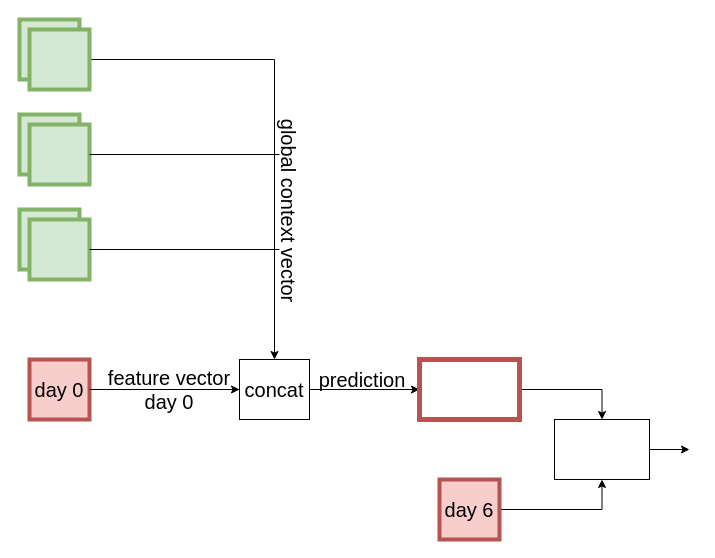
Image size: 715x558. Some labels were removed from this diagram. Here are the shapes that lost their labels. From the top down, the box of each, then its label:
(416, 356, 522, 422): predicted picture
(554, 418, 650, 480): distance
